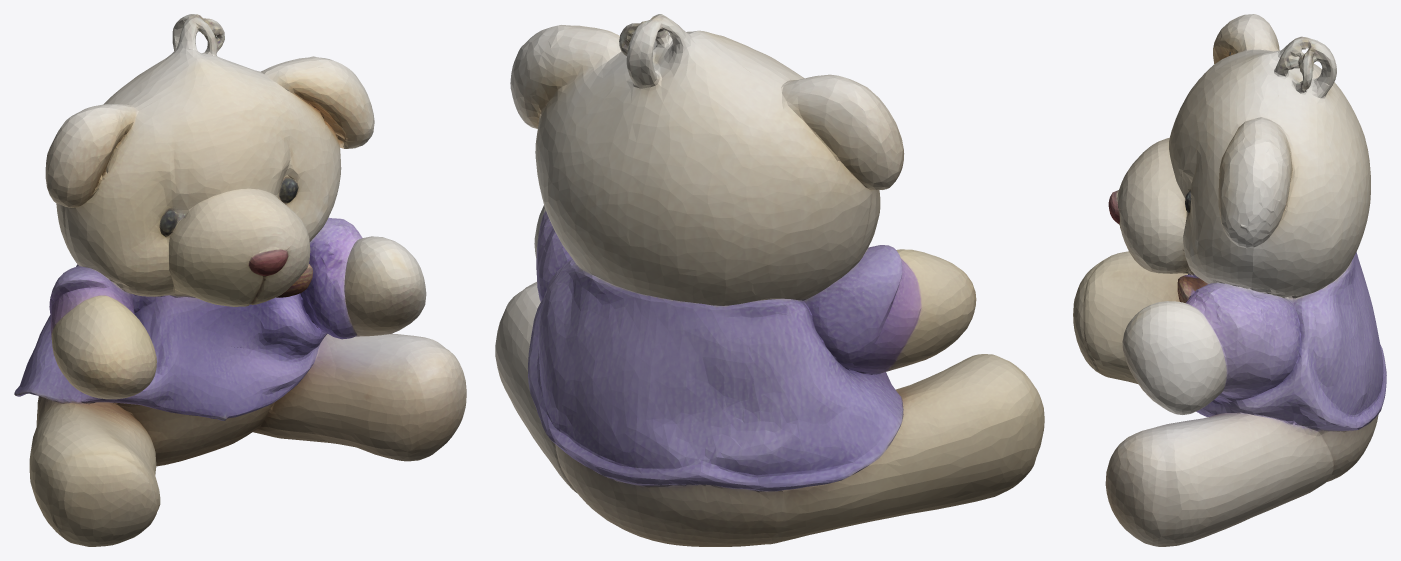
3 views of the same model, side by side, from view 1: azimuth 30°, elevation 25°; view 2: azimuth 150°, elevation 25°; view 3: azimuth 270°, elevation 25° (orthographic). The views are drawn at different scales.
Parts seen in each view (by area): view 1: world; view 2: world; view 3: world.
Part boxes in pixels (x1,y1,x2,y2): world: (14,14,466,546); world: (495,14,1044,546); world: (1073,14,1386,546).
Bounding box in the file's own units: 0.9995 × 0.9519 × 0.6213.
Materials: 1 (1 with a texture image).
